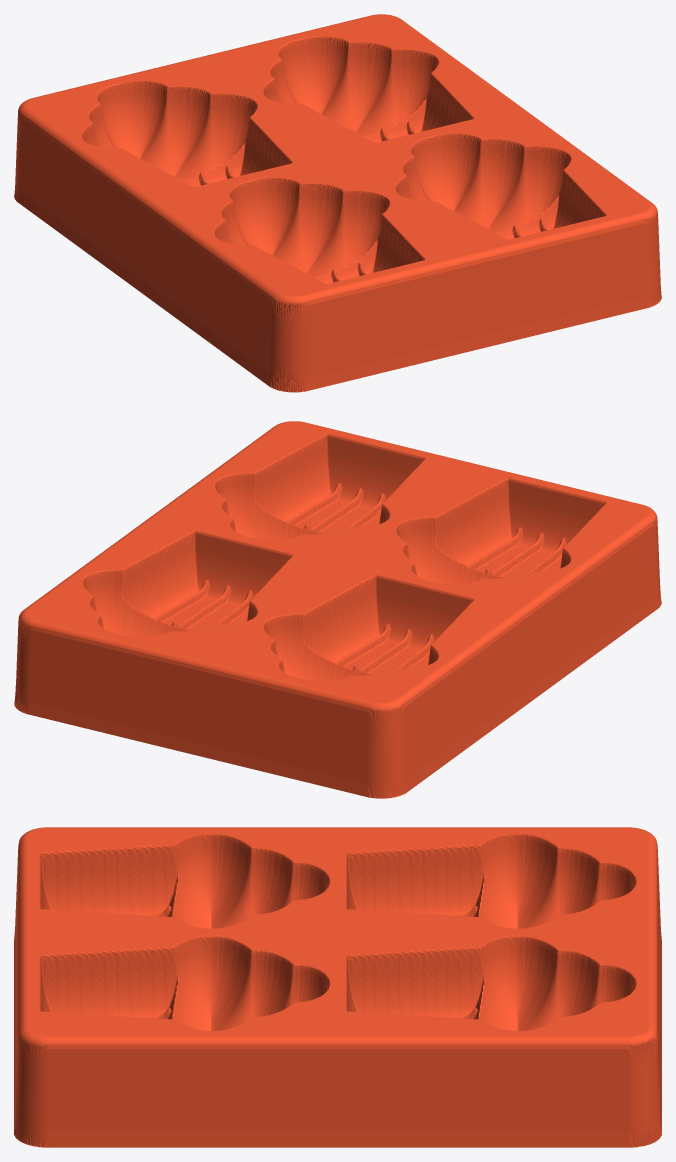
File: mold.glb
3 renders of one model, top to bottom at view 1: azimuth 30°, elevation 25°; view 2: azimuth 150°, elevation 25°; view 3: azimuth 270°, elevation 25°, orthographic. The views are drawn at different scales.
Visible parts, largest first — view 1: geometry_0; view 2: geometry_0; view 3: geometry_0.
Part boxes in pixels (<box>): geometry_0: <box>14,14,661,392</box>; geometry_0: <box>14,421,661,798</box>; geometry_0: <box>14,827,661,1147</box>.
Bounding box in the file's own units: 0.138 × 0.031 × 0.1721.
